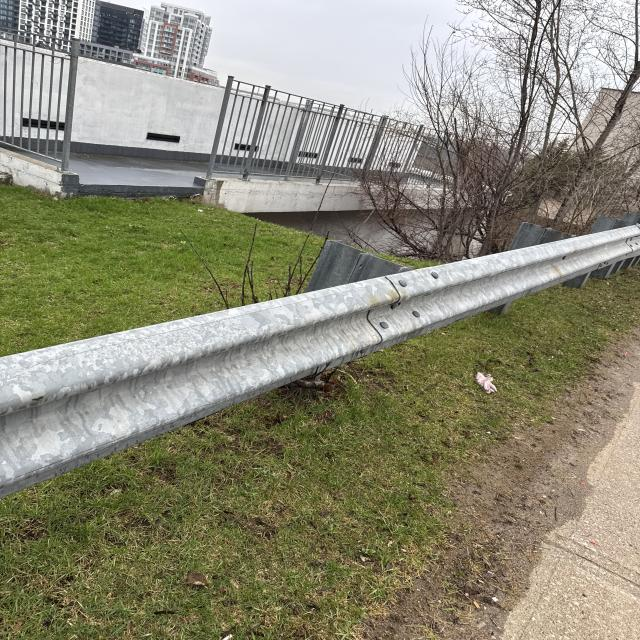Guard rail: (14, 238, 635, 478)
